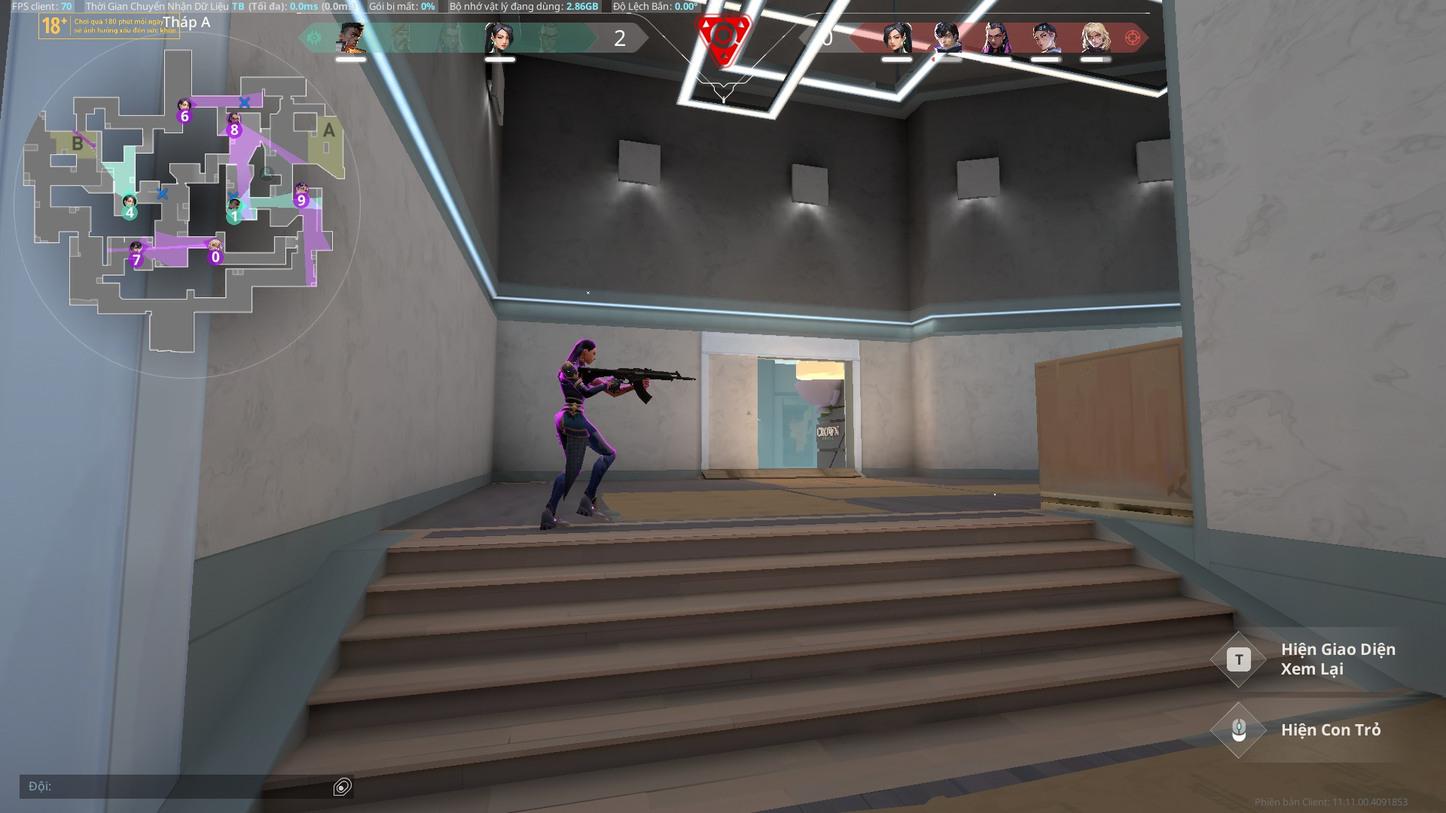body: (554, 359, 592, 407)
head: (573, 337, 596, 364)
